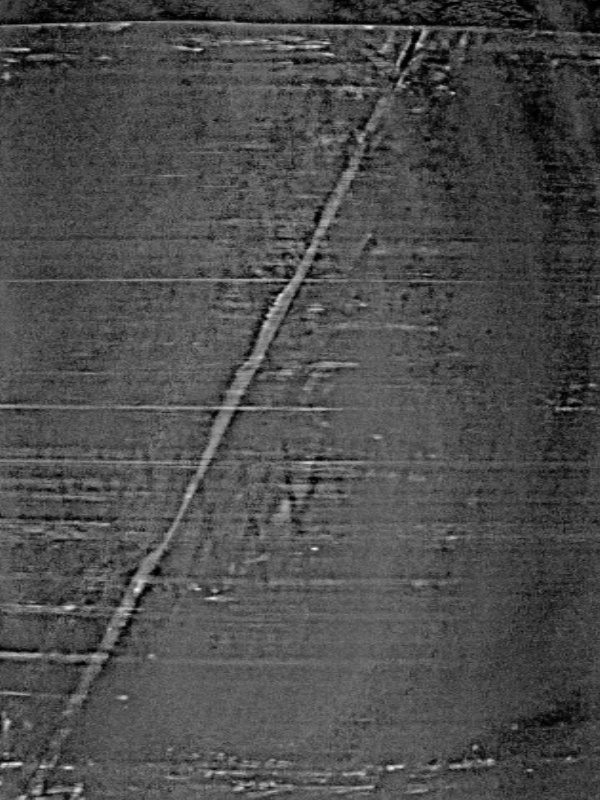splice_vulcanized: (1, 26, 466, 800)
